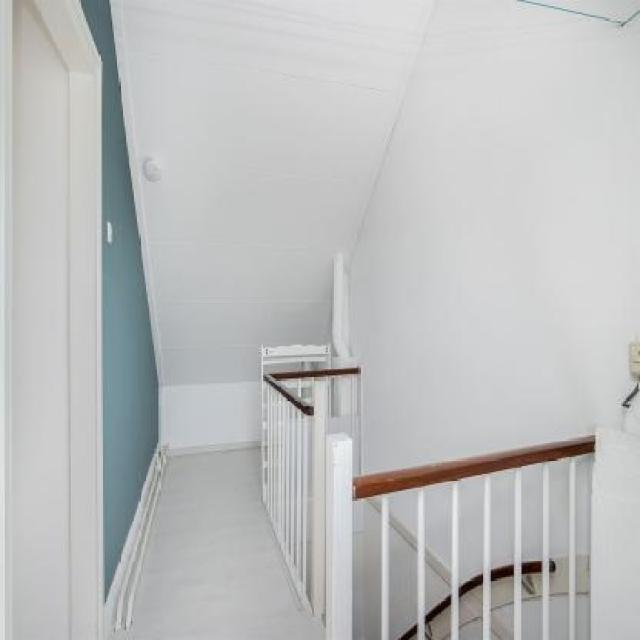floor: (133, 449, 329, 640)
